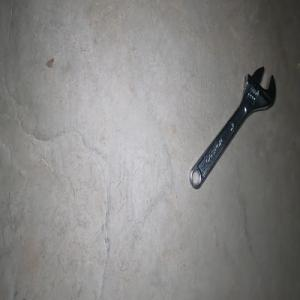Wrench: (189, 66, 276, 189)
